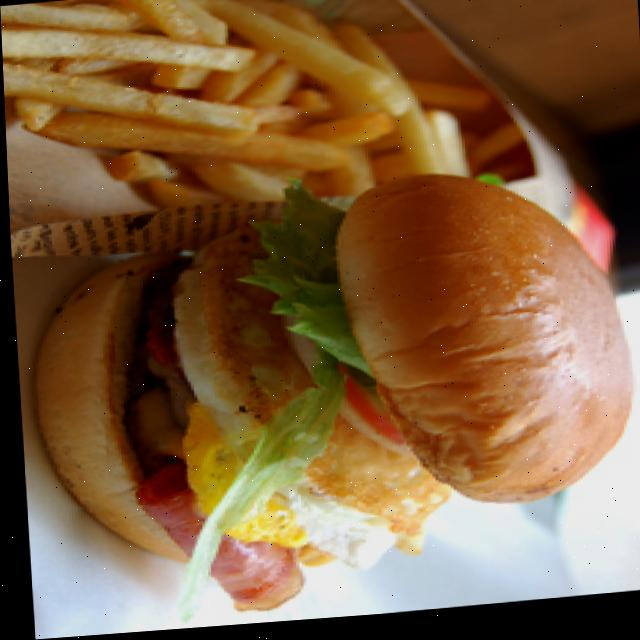汉堡快餐: (13, 161, 640, 626)
炸货点心: (0, 0, 609, 321)
